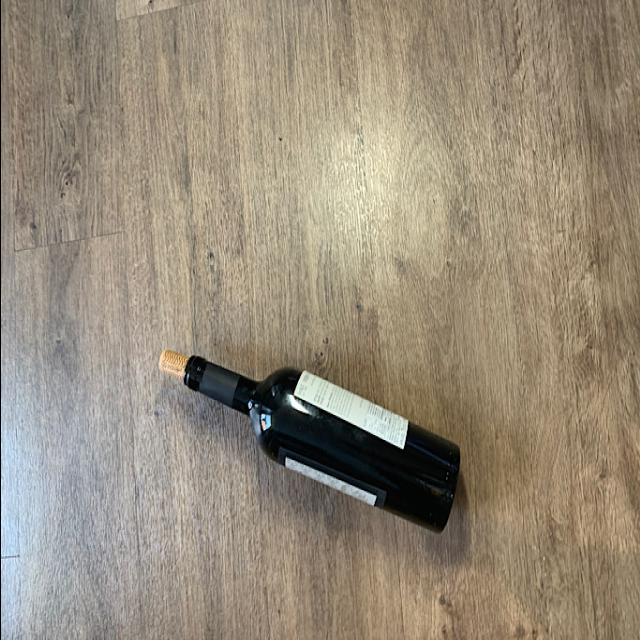Glass Bottle: (178, 332, 464, 536)
